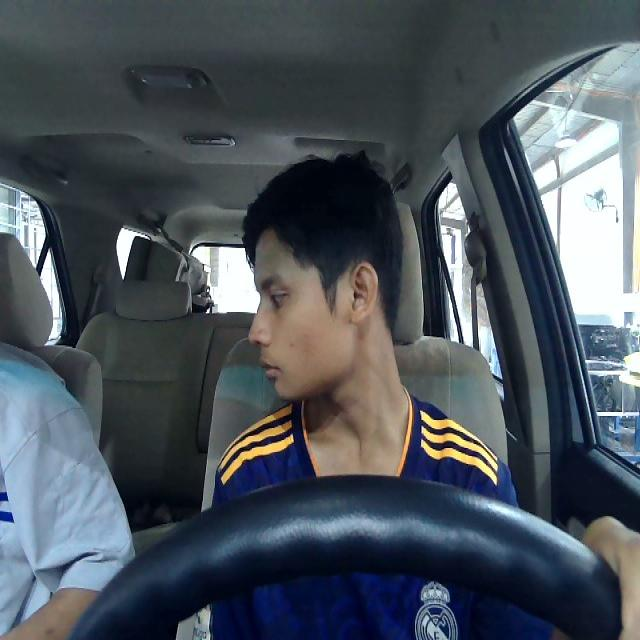seeing_left: (243, 228, 379, 403)
